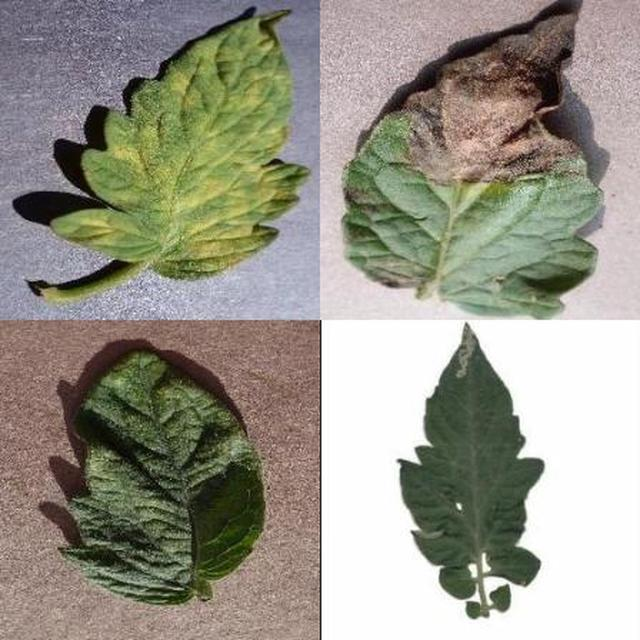Leaf Mold: (218, 207, 640, 640)
